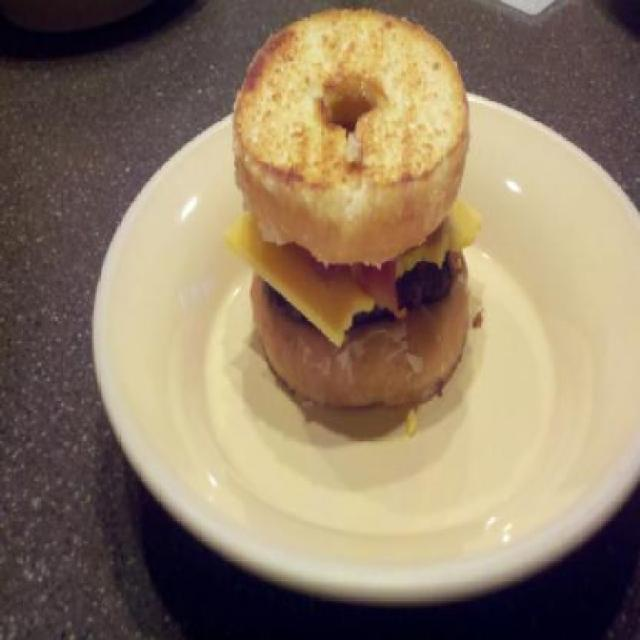Bagel: (234, 6, 468, 412)
